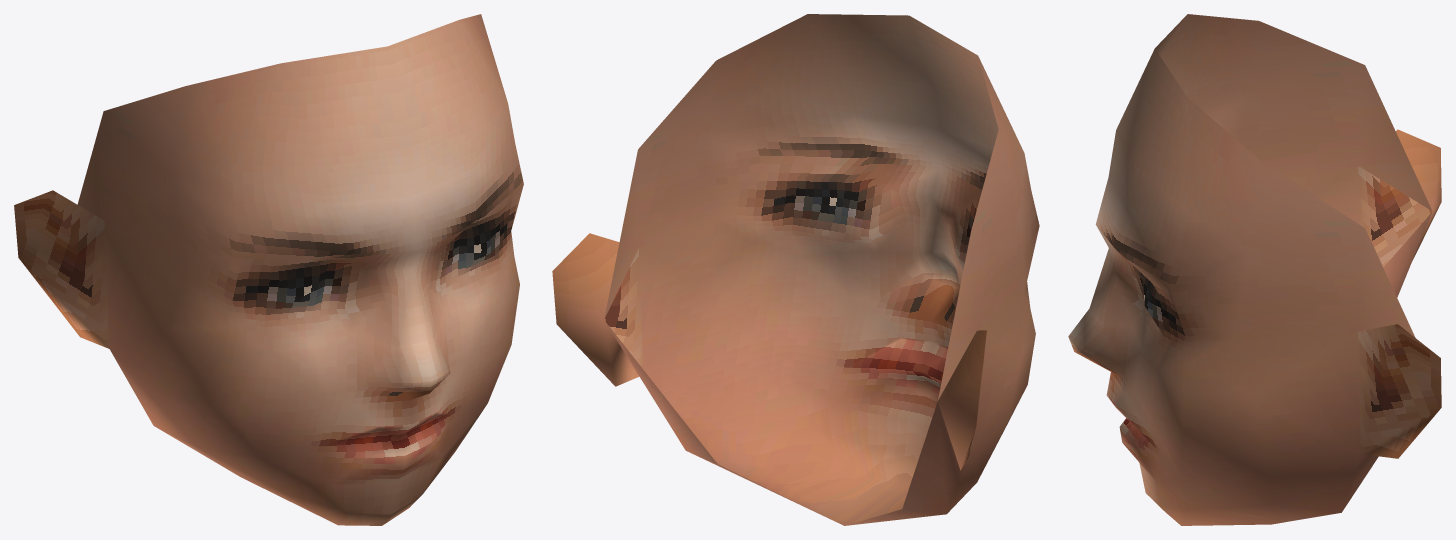
3 renders of one model, left to right at view 1: azimuth 30°, elevation 25°; view 2: azimuth 150°, elevation 25°; view 3: azimuth 270°, elevation 25°, orthographic. The views are drawn at different scales.
Visible parts, largest first — view 1: mesh00; view 2: mesh00; view 3: mesh00.
Boxes of the visible parts, box(x1,y1,x2,y2) form: mesh00: box(14, 14, 523, 525); mesh00: box(552, 14, 1039, 525); mesh00: box(1068, 14, 1441, 525).
Bounding box in the file's own units: 19.4 × 20.03 × 14.57.
Materials: 1 (1 with a texture image).
